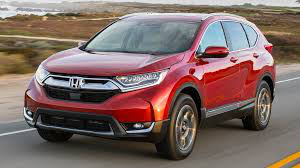car: (30, 11, 275, 157)
